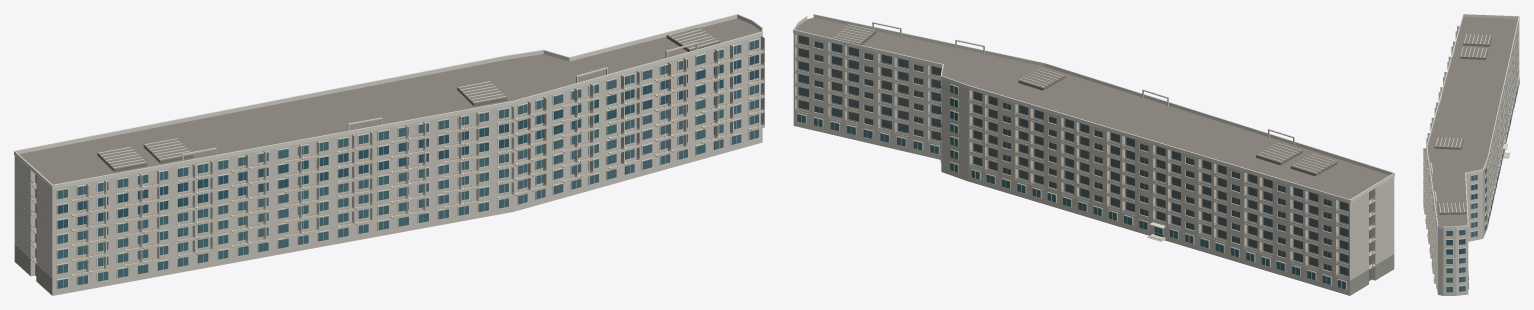
Rendered from chunk-dorm-way-760187414.glb.
The picture shows the model from 3 angles, left to right: view 1: azimuth 30°, elevation 25°; view 2: azimuth 150°, elevation 25°; view 3: azimuth 270°, elevation 25°; orthographic projection. The views are drawn at different scales.
Visible parts, largest first — view 1: chunk-dorm-way-760187414; view 2: chunk-dorm-way-760187414; view 3: chunk-dorm-way-760187414.
Boxes of the visible parts, left/top/right/bottom form: chunk-dorm-way-760187414: left=14, top=14, right=764, bottom=295; chunk-dorm-way-760187414: left=793, top=14, right=1394, bottom=295; chunk-dorm-way-760187414: left=1423, top=14, right=1519, bottom=295.
Size of the model in its own units: 152 by 24.51 by 29.2.
11 materials, 1 textured.
